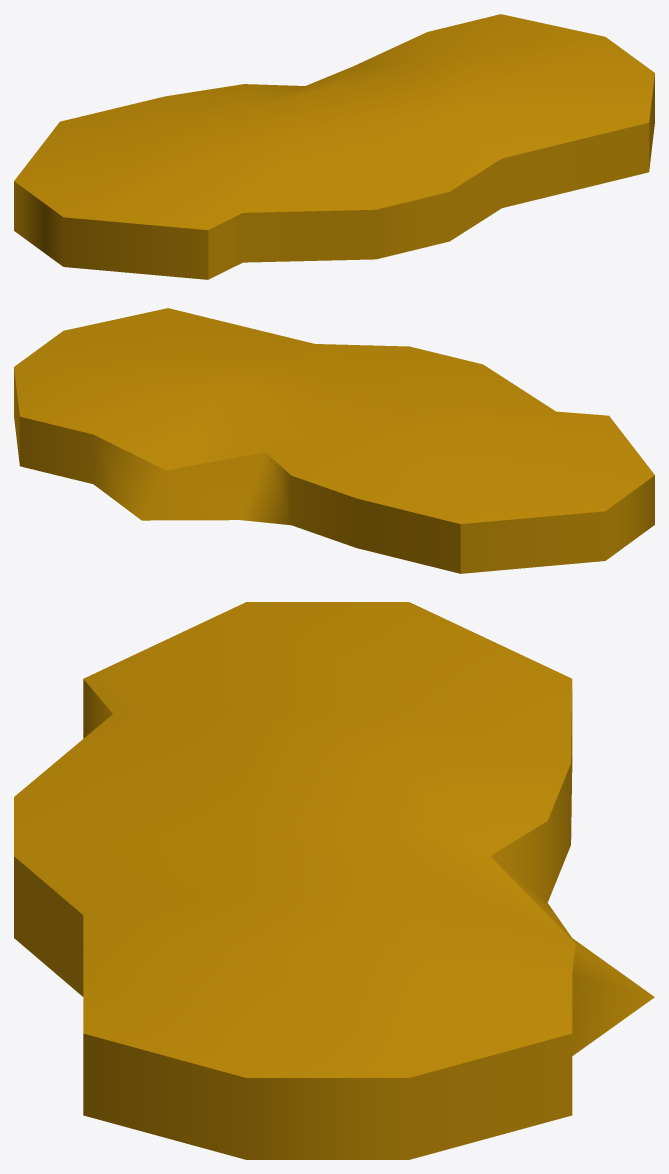
Rendered from squareRock.fbx.
3 renders of one model, top to bottom at view 1: azimuth 30°, elevation 25°; view 2: azimuth 150°, elevation 25°; view 3: azimuth 270°, elevation 25°, orthographic. The views are drawn at different scales.
Visible parts, largest first — view 1: pCube1; view 2: pCube1; view 3: pCube1.
Part boxes in pixels (x1,y1,x2,y2): pCube1: [14, 14, 654, 279]; pCube1: [14, 308, 654, 573]; pCube1: [14, 602, 654, 1159].
Size of the model in its own units: 30.35 by 3.22 by 17.27.
